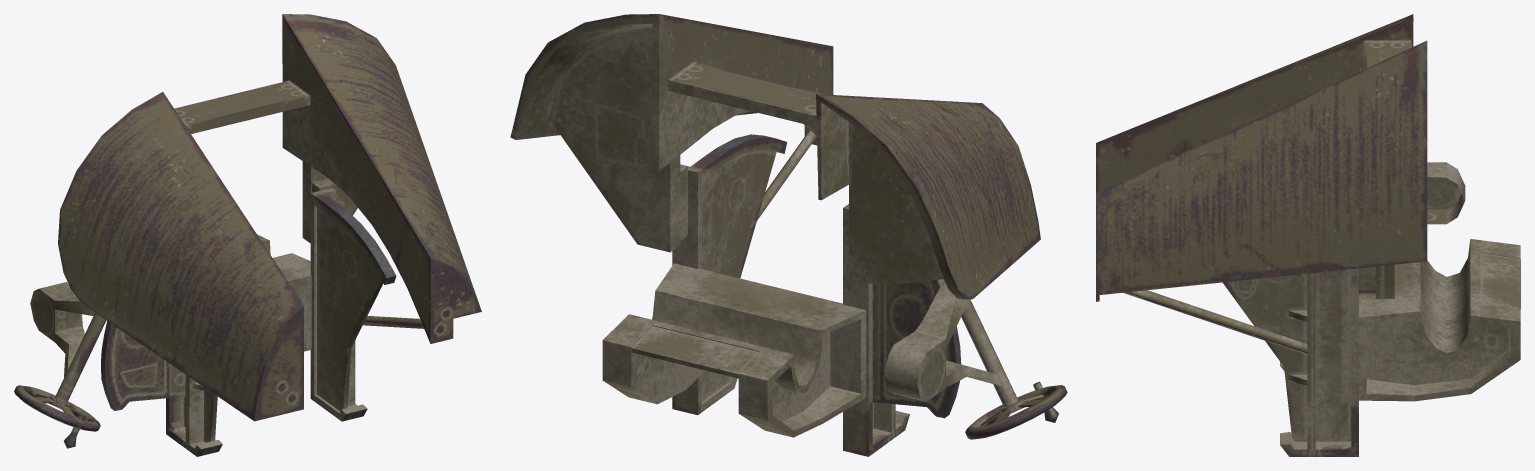
File: Turret_01.glb
3 views of the same model, side by side, from view 1: azimuth 30°, elevation 25°; view 2: azimuth 150°, elevation 25°; view 3: azimuth 270°, elevation 25° (orthographic). The views are drawn at different scales.
Visible parts, largest first — view 1: set_0_group_0; view 2: set_0_group_0; view 3: set_0_group_0.
Part boxes in pixels (<box>): set_0_group_0: <box>14,14,481,456</box>; set_0_group_0: <box>510,14,1067,456</box>; set_0_group_0: <box>1096,14,1520,456</box>.
Size of the model in its own units: 1.33 by 1.08 by 1.02.
1 material, 1 textured.
